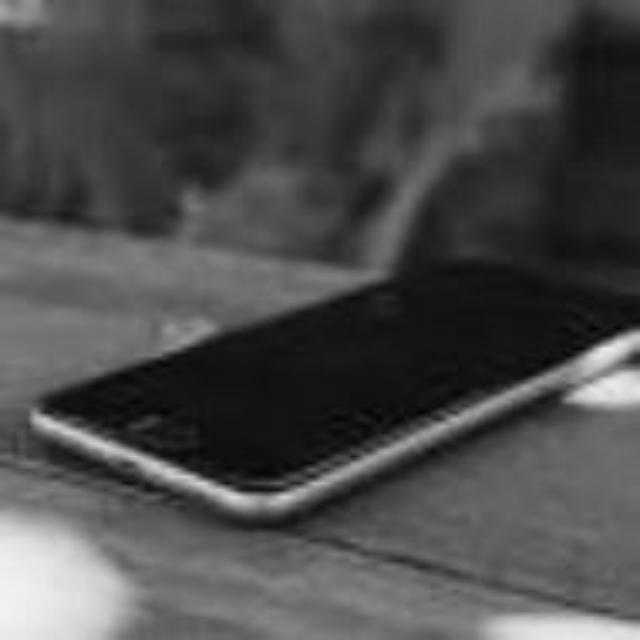fake: (49, 192, 640, 522)
